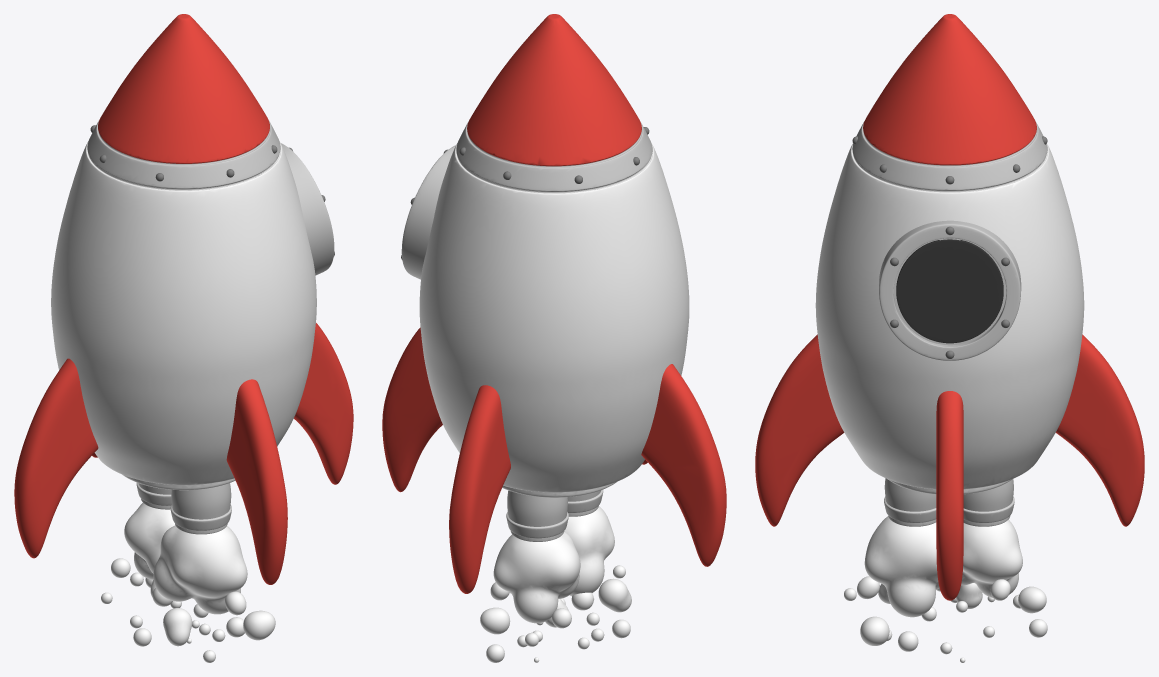
File: rocket.glb
3 renders of one model, left to right at view 1: azimuth 30°, elevation 25°; view 2: azimuth 150°, elevation 25°; view 3: azimuth 270°, elevation 25°, orthographic.
Visible parts, largest first — view 1: Cylinder_white_0, Cylinder_red_0, Cylinder_metal_0; view 2: Cylinder_white_0, Cylinder_red_0, Cylinder_metal_0; view 3: Cylinder_white_0, Cylinder_red_0, Cylinder_metal_0, Cylinder.001_window glass_0, Cube_metal.2_0.
Part boxes in pixels (x1,y1,x2,y2): Cylinder_white_0: [51, 141, 316, 662]; Cylinder_red_0: [14, 14, 353, 584]; Cylinder_metal_0: [87, 121, 334, 534]; Cylinder_white_0: [419, 143, 689, 662]; Cylinder_red_0: [382, 14, 726, 593]; Cylinder_metal_0: [401, 121, 652, 541]; Cylinder_white_0: [815, 143, 1084, 662]; Cylinder_red_0: [755, 14, 1144, 600]; Cylinder_metal_0: [852, 121, 1047, 526]; Cylinder.001_window glass_0: [896, 239, 1003, 343]; Cube_metal.2_0: [852, 136, 1047, 358].
Bounding box in the file's own units: 0.844 × 1.53 × 0.8439.
